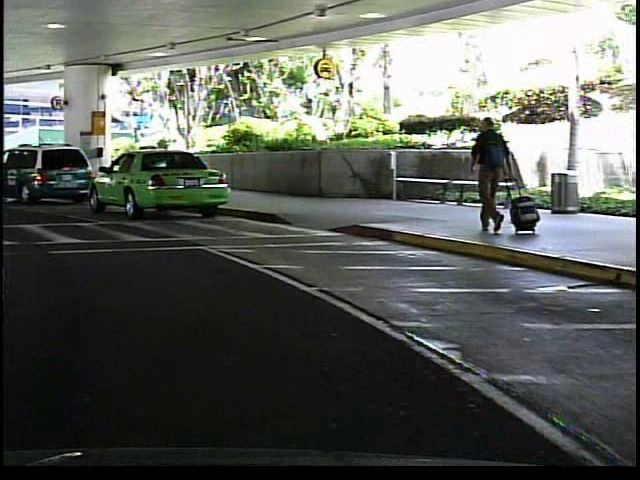person: (460, 111, 518, 244)
